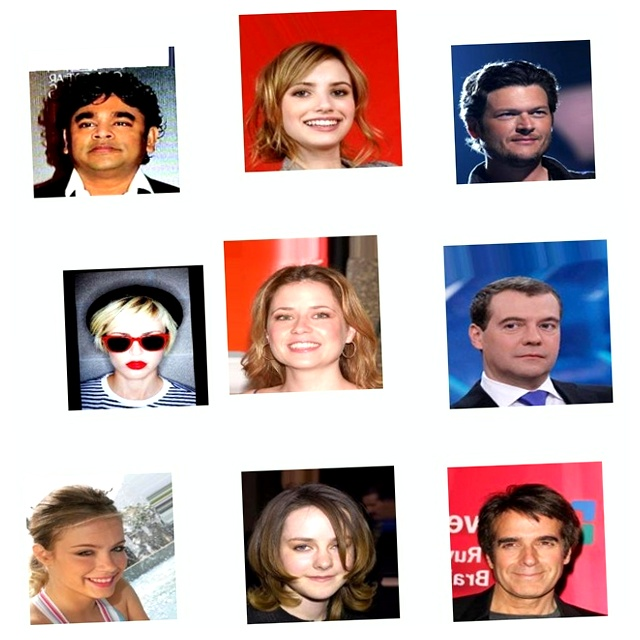celeb_10002: (8, 455, 161, 608)
celeb_1212: (467, 57, 612, 202)
celeb_2336: (430, 477, 590, 638)
celeb_2619: (443, 256, 613, 426)
celeb_2970: (257, 10, 421, 174)
celeb_4422: (224, 466, 383, 624)
celeb_4428: (224, 234, 384, 394)
celeb_7: (45, 31, 197, 182)
celeb_797: (63, 251, 208, 397)
